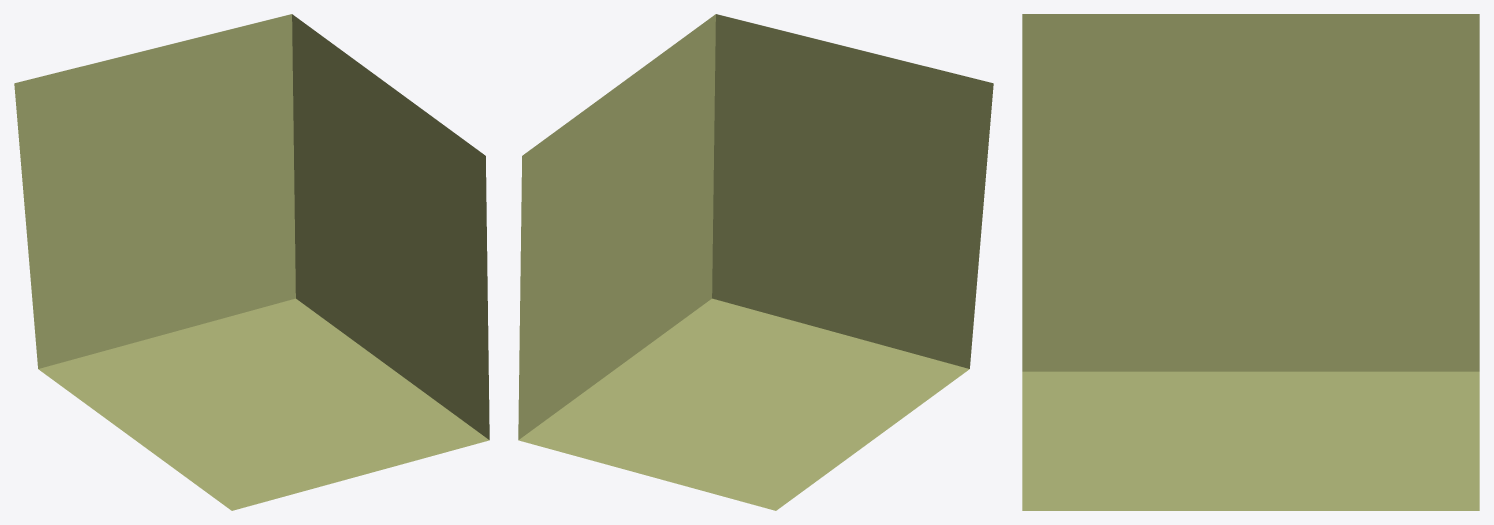
3 renders of one model, left to right at view 1: azimuth 30°, elevation 25°; view 2: azimuth 150°, elevation 25°; view 3: azimuth 270°, elevation 25°, orthographic. The views are drawn at different scales.
Parts seen in each view (by area): view 1: 0_0_1_1_3_2_3_1_1_2; view 2: 0_0_1_1_3_2_3_1_1_2; view 3: 0_0_1_1_3_2_3_1_1_2.
Boxes of the visible parts, x1,y1,x2,y2 form: 0_0_1_1_3_2_3_1_1_2: [14, 14, 489, 510]; 0_0_1_1_3_2_3_1_1_2: [518, 14, 993, 510]; 0_0_1_1_3_2_3_1_1_2: [1022, 14, 1479, 510].
Size of the model in its own units: 7.55 by 7.51 by 9.
